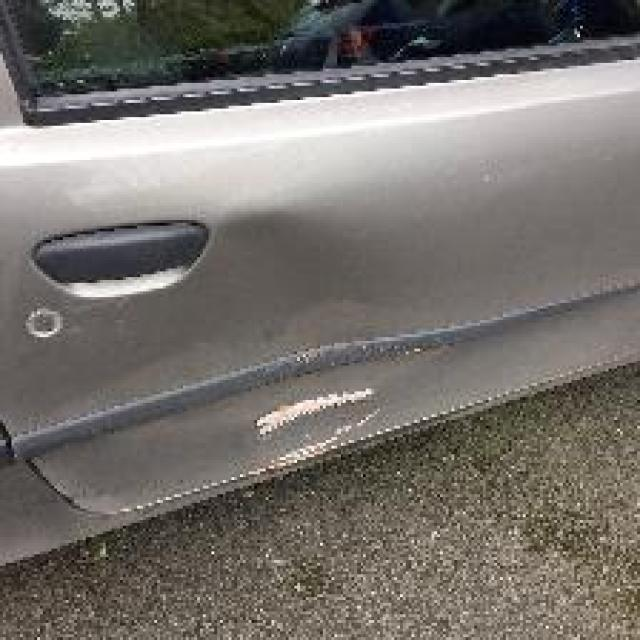door_dent_minor: (100, 169, 637, 437)
